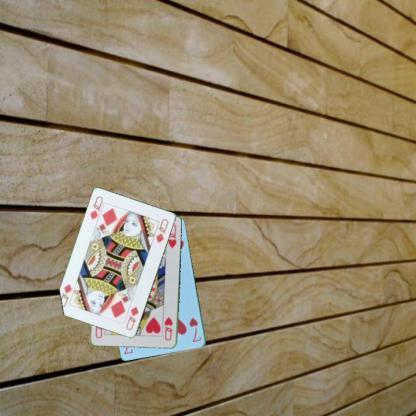7h: (186, 316, 202, 344)
Qd: (87, 194, 106, 224), (124, 304, 140, 332)
Qh: (162, 314, 174, 342)
